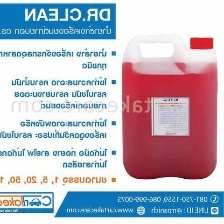cleaning_solution: (119, 31, 220, 181)
